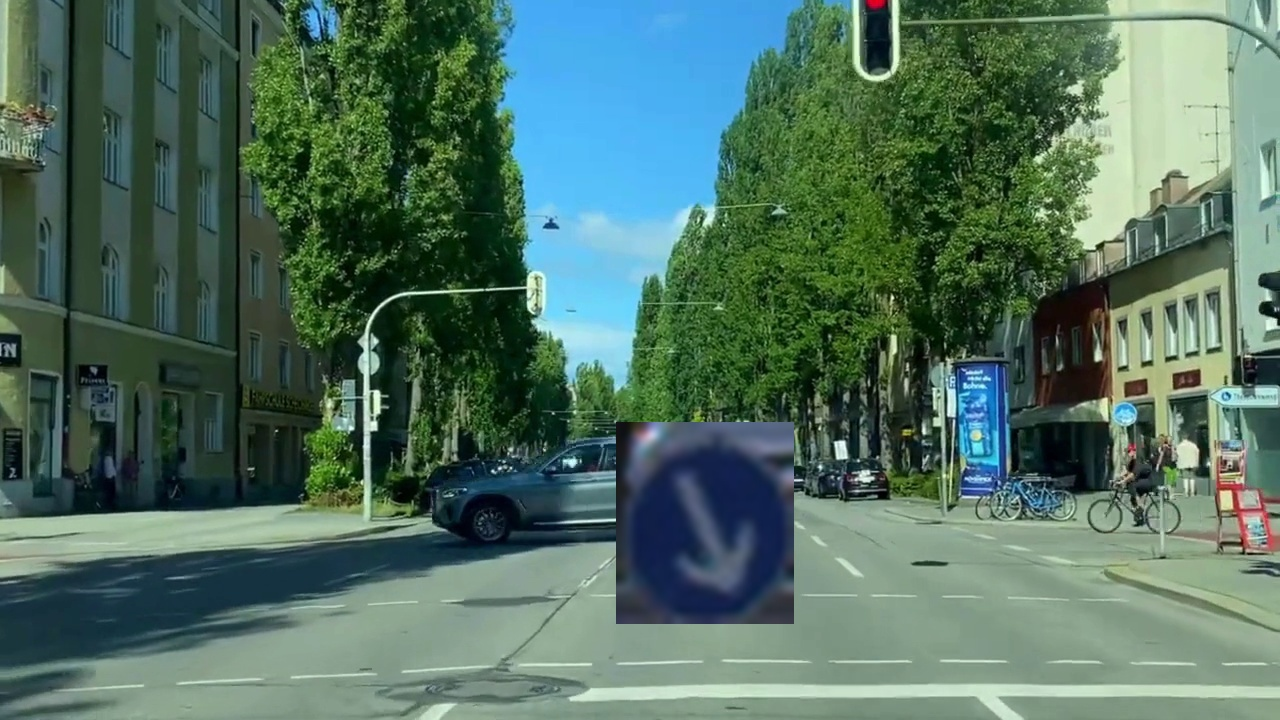Keep right: (616, 422, 794, 624)
